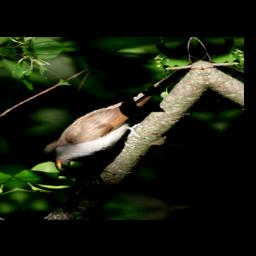Cuckoo: (19, 64, 221, 173)
